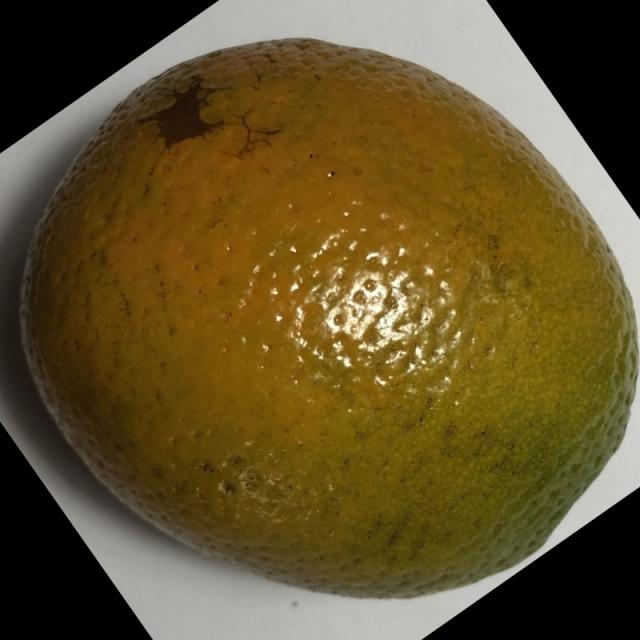canker: (10, 28, 640, 613)
